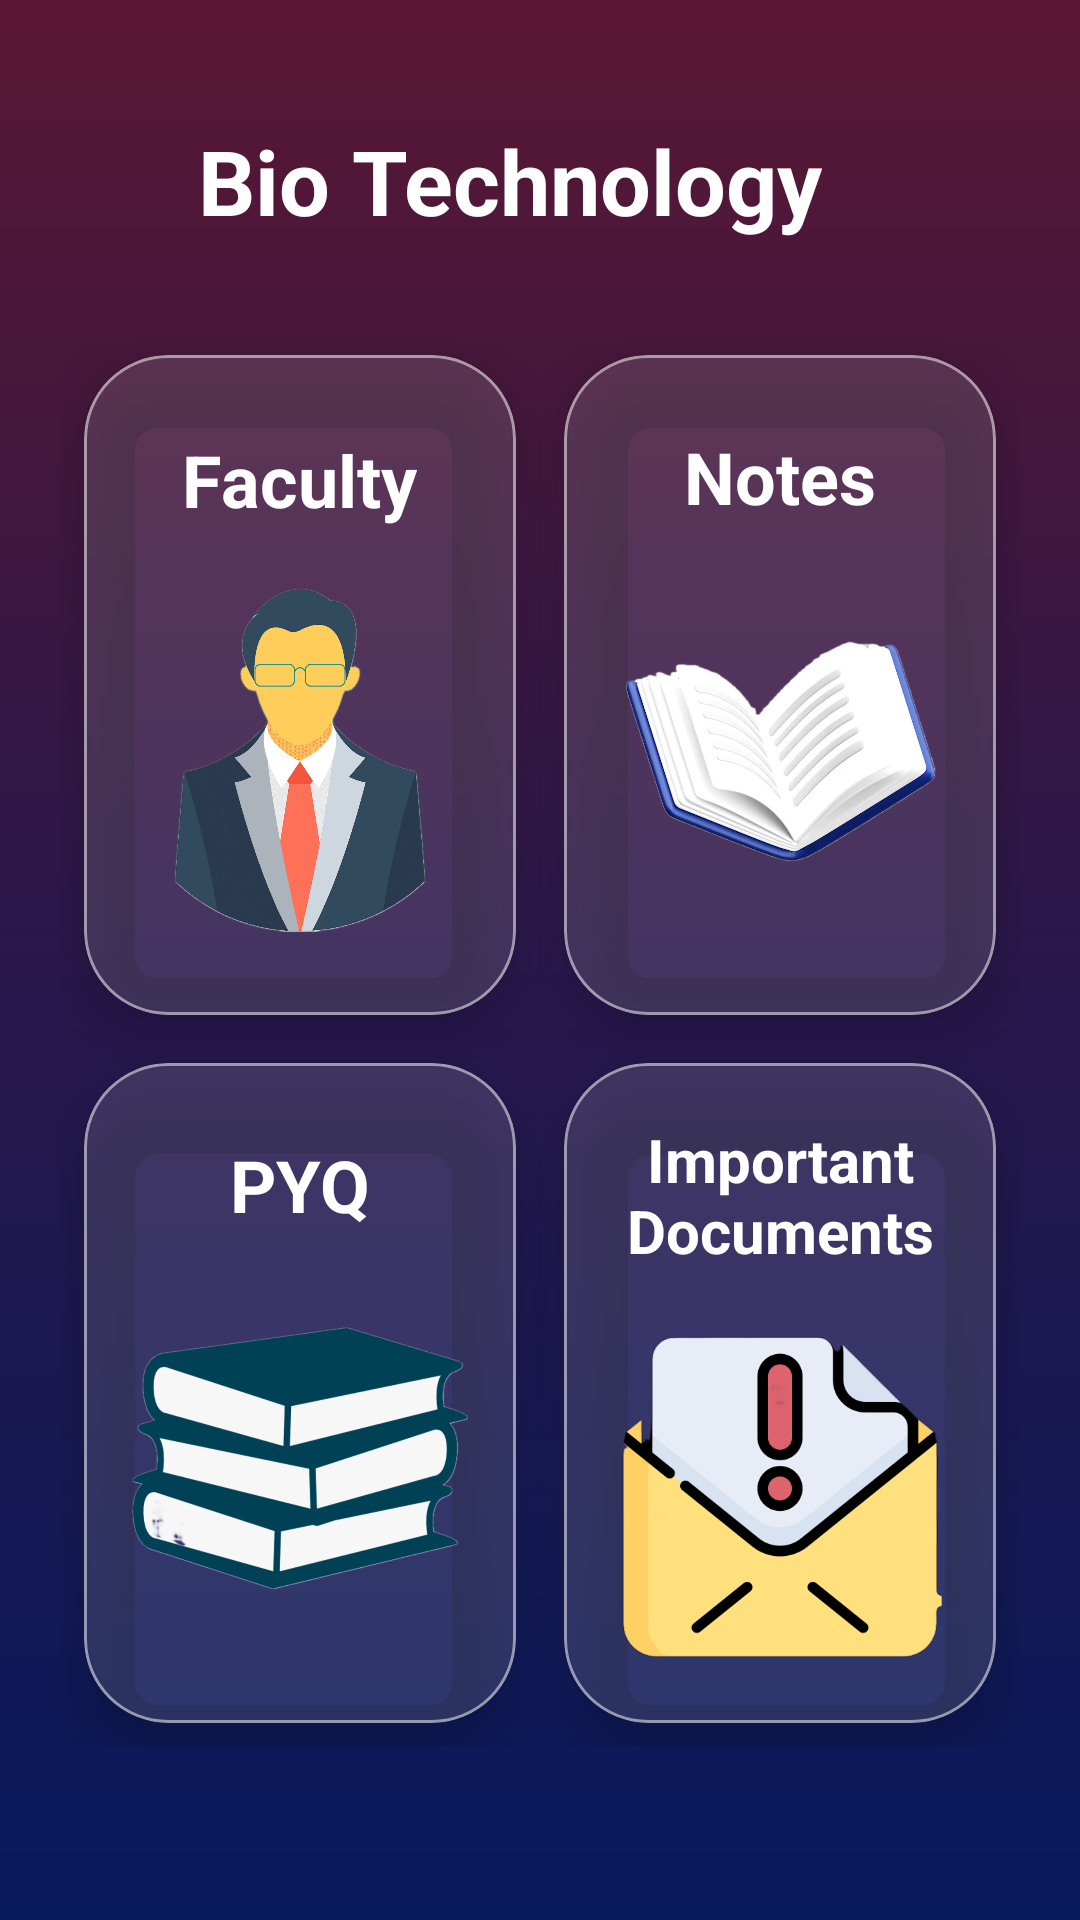

Screen size 1080 × 1920. Icon name, then its center in pixels as point (x, y):
notice: point (782, 1497)
